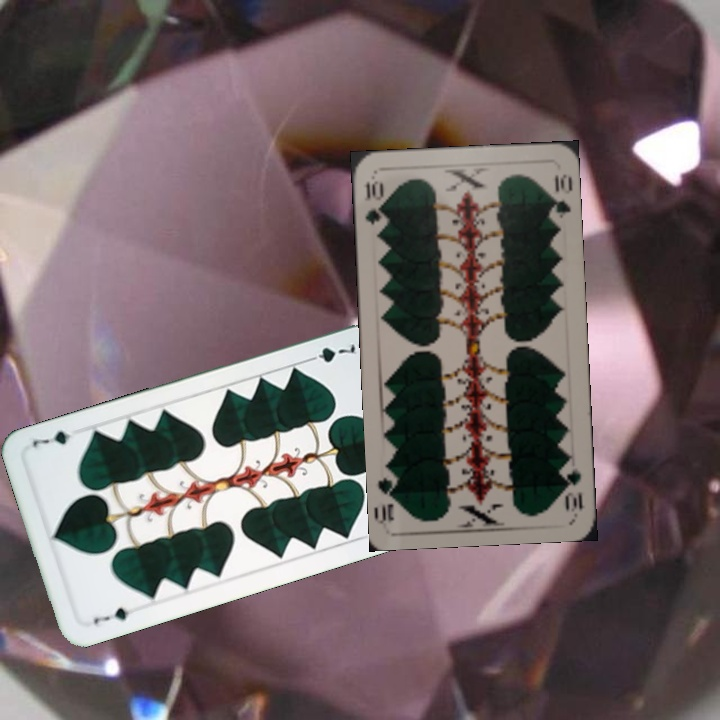G10: (558, 456, 586, 514), (360, 177, 387, 227)
G7: (301, 340, 359, 365), (89, 603, 139, 627)
